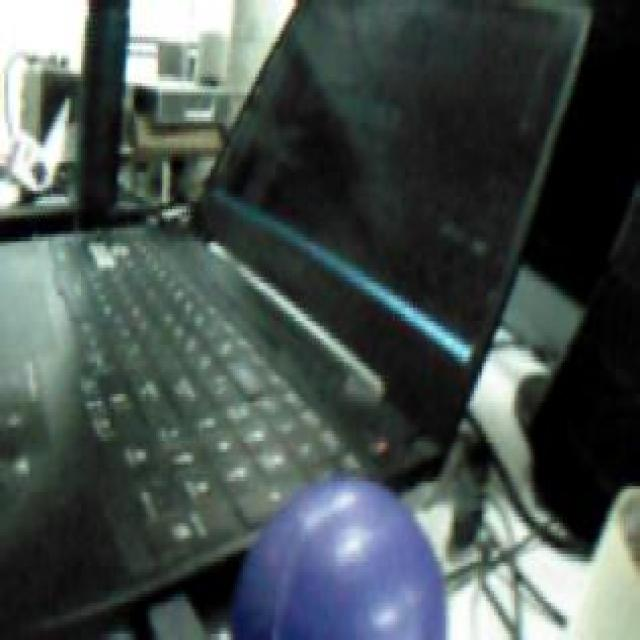BallPurple: (235, 474, 446, 640)
